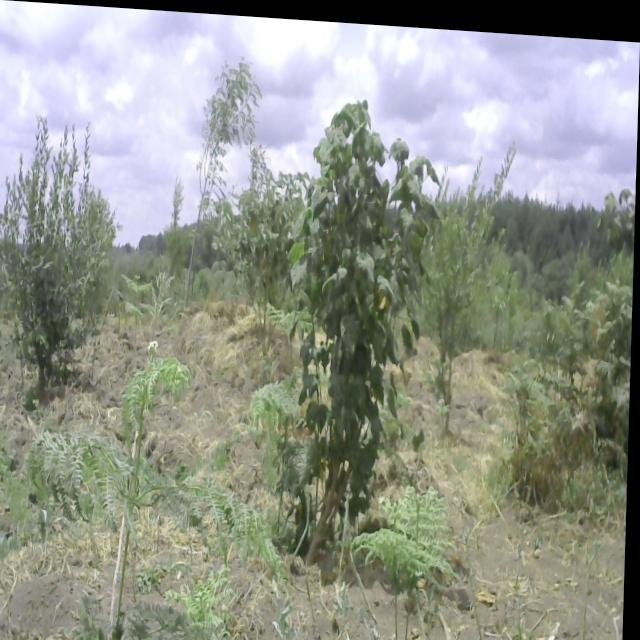Lemon Myrtle: (213, 127, 301, 345)
Salix alba: (0, 103, 116, 374), (417, 137, 526, 398)
other: (274, 84, 444, 615)
